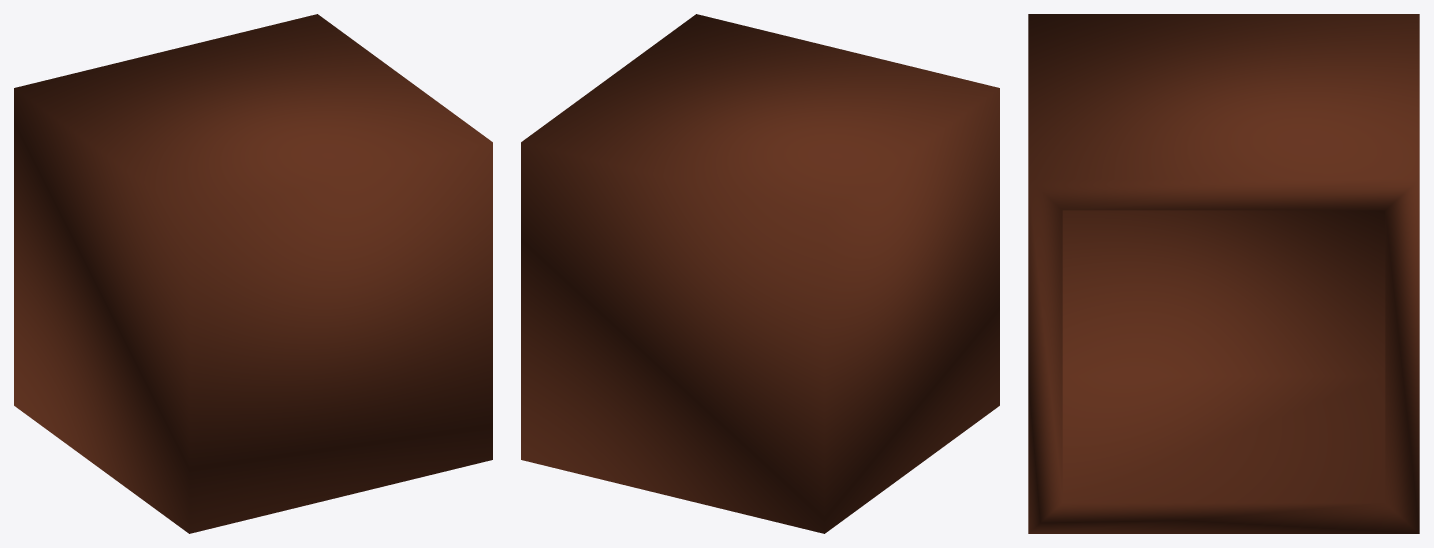
The model's file is MiniShelf.fbx.
3 renders of one model, left to right at view 1: azimuth 30°, elevation 25°; view 2: azimuth 150°, elevation 25°; view 3: azimuth 270°, elevation 25°, orthographic. The views are drawn at different scales.
Visible parts, largest first — view 1: Cube.002; view 2: Cube.002; view 3: Cube.002.
Part boxes in pixels (x1,y1,x2,y2): Cube.002: (14, 14, 492, 533); Cube.002: (521, 14, 999, 533); Cube.002: (1028, 14, 1419, 533).
Bounding box in the file's own units: 92.41 × 92.41 × 92.41.
